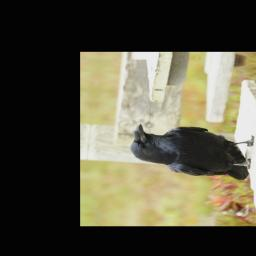Crow: (127, 122, 256, 181)
